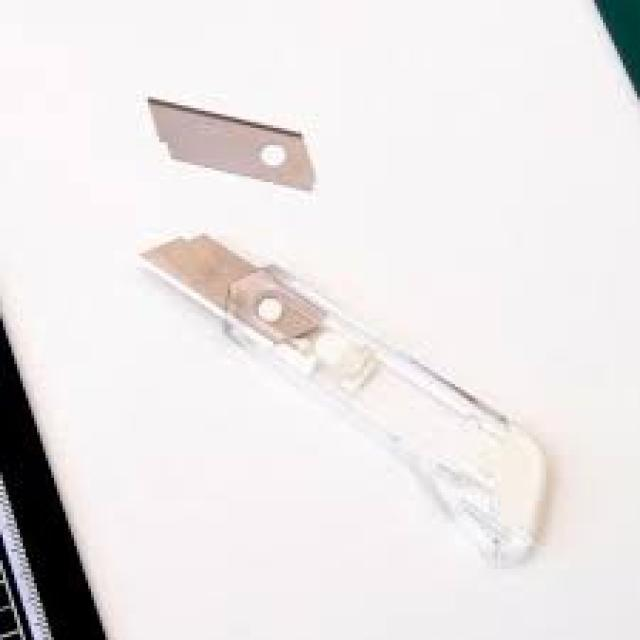cutter: (138, 225, 562, 575)
